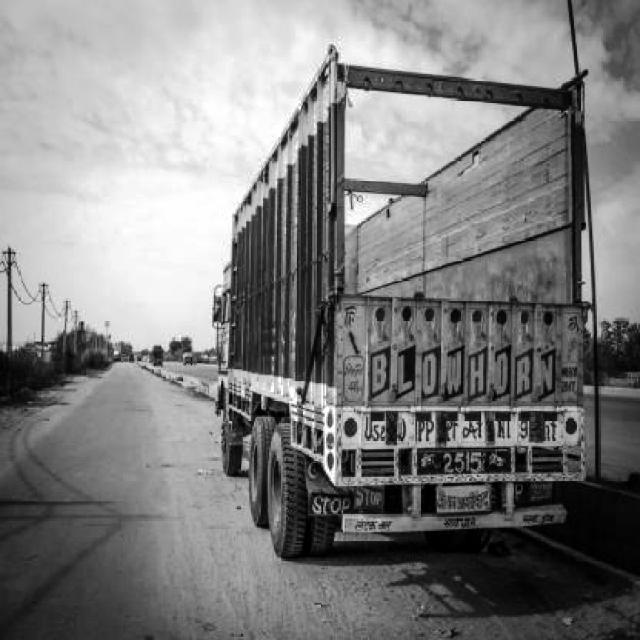HCV: (220, 138, 621, 566)
